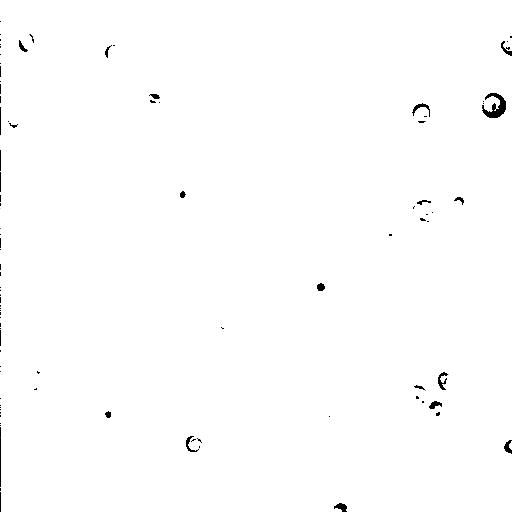micro-algae: (410, 300, 511, 419), (143, 48, 225, 133), (286, 217, 371, 298), (9, 452, 90, 511), (241, 124, 298, 185), (129, 3, 181, 54), (403, 461, 447, 507), (27, 1, 93, 31), (355, 68, 395, 116), (219, 249, 257, 287), (486, 454, 511, 511), (374, 6, 408, 47), (35, 431, 71, 467), (51, 142, 83, 176), (303, 270, 337, 301), (165, 178, 195, 209), (409, 199, 440, 229), (496, 196, 511, 257), (372, 217, 401, 247), (479, 90, 508, 120), (1, 103, 29, 133), (403, 385, 433, 413), (118, 335, 143, 361), (495, 327, 511, 367), (25, 371, 49, 397), (97, 400, 119, 426), (411, 101, 432, 125), (16, 31, 37, 53), (185, 435, 204, 454), (425, 400, 444, 417), (106, 43, 123, 61), (449, 196, 467, 213), (438, 372, 455, 390), (499, 33, 511, 57), (79, 1, 108, 9), (330, 501, 348, 511), (52, 0, 71, 9), (501, 439, 511, 454)
